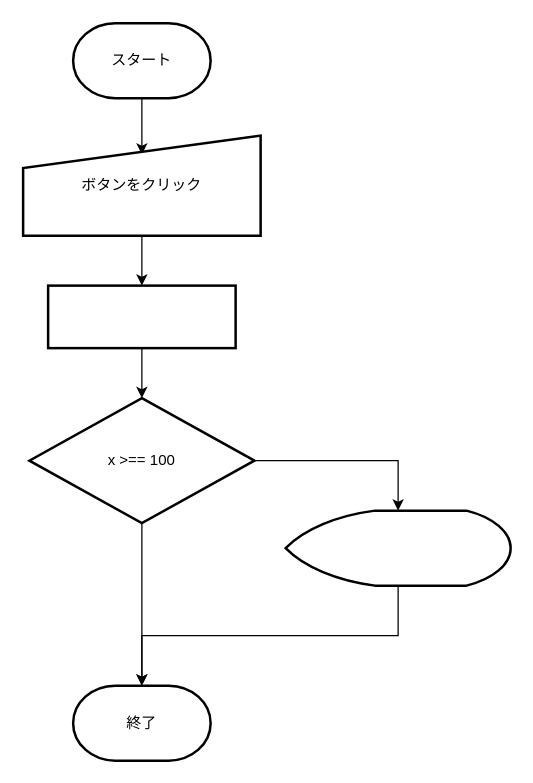
Image size: 533x783. Some labels were removed from this diagram. Each missing label, with the centre of its shape:
"x + 1" belongs at pixel 141 316.
"ゲームオーバー表示" belongs at pixel 397 547.
